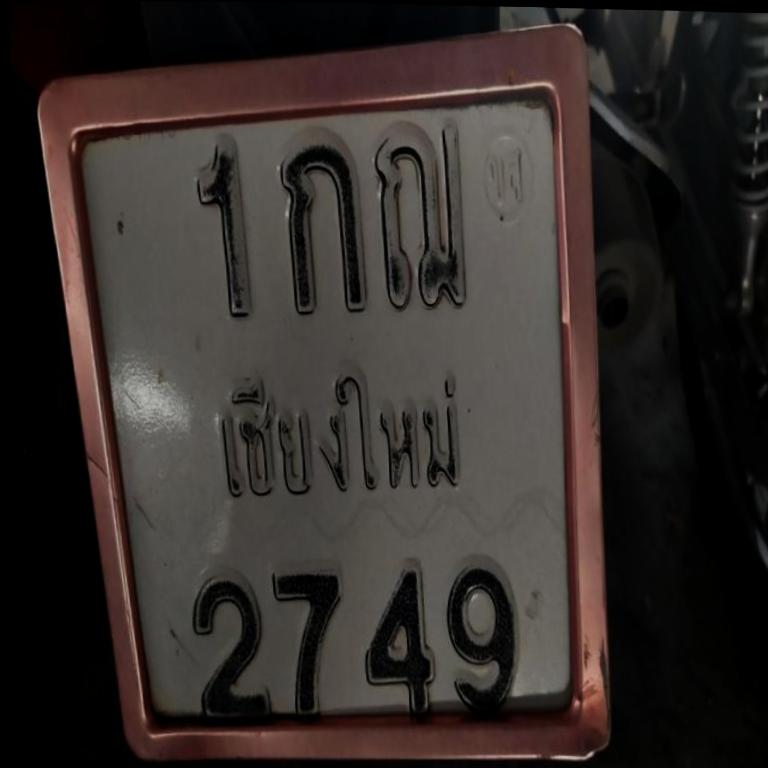license plate: (40, 27, 608, 759)
